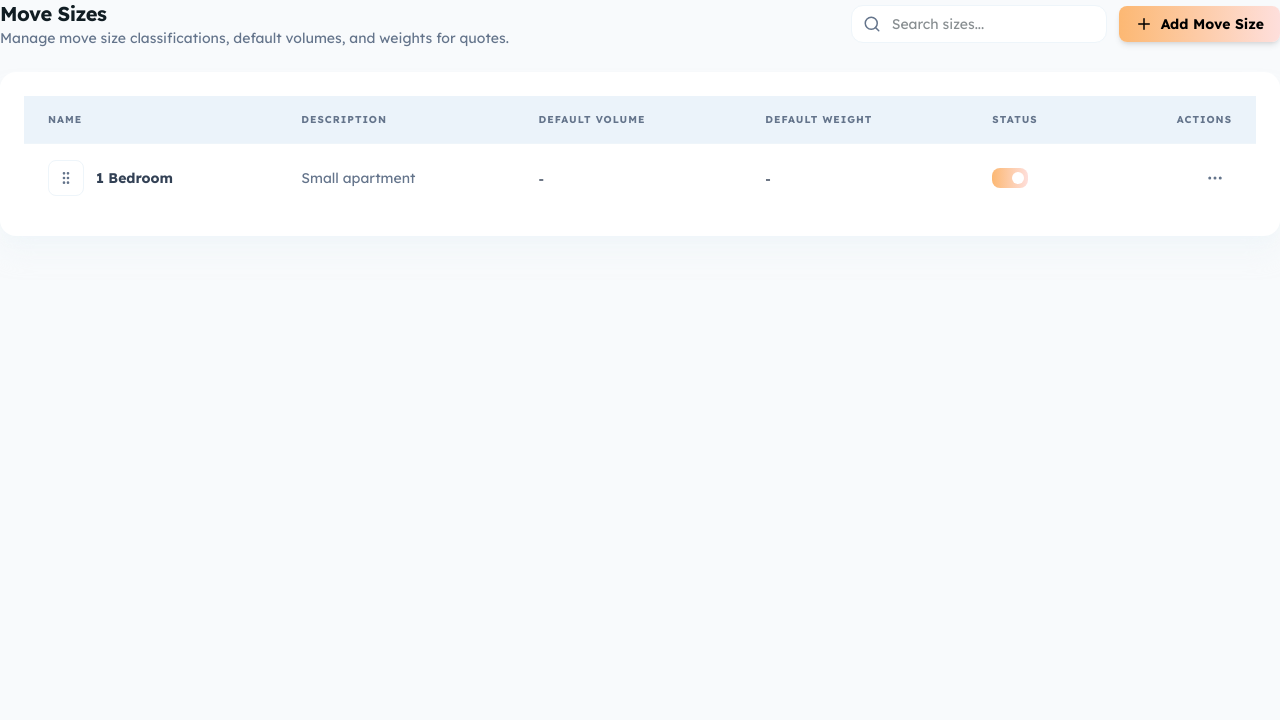
Test: MoverSizeSettings › renders toolbar with responsive styling and opens Add Size modal
Expected: the text "1 Bedroom" is shown, [96,168,173,188]
Note: Clicking Add Size should open modal
Click the button named "add size".
click(1199, 24)  # box [1119,6,1279,42]
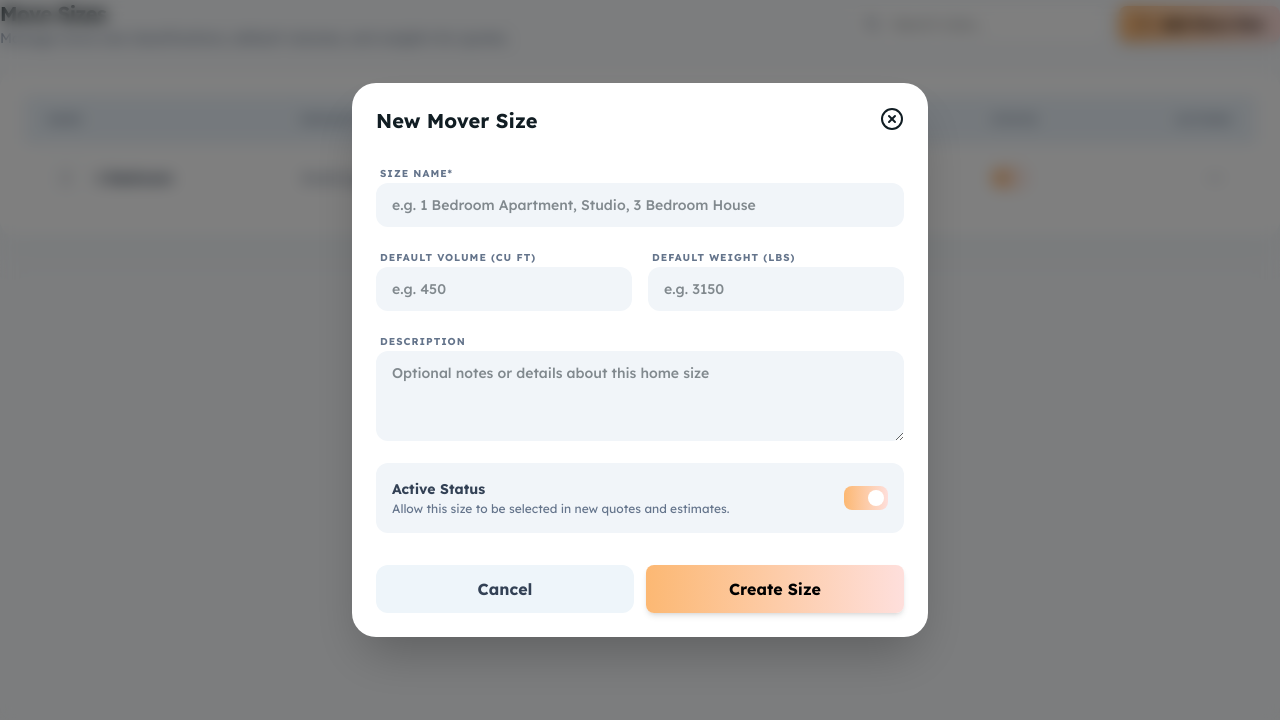
Expected: the heading "New Mover Size" is shown, [376,107,537,135]
Expected: the text "Size Name*" is shown, [380,167,453,180]
